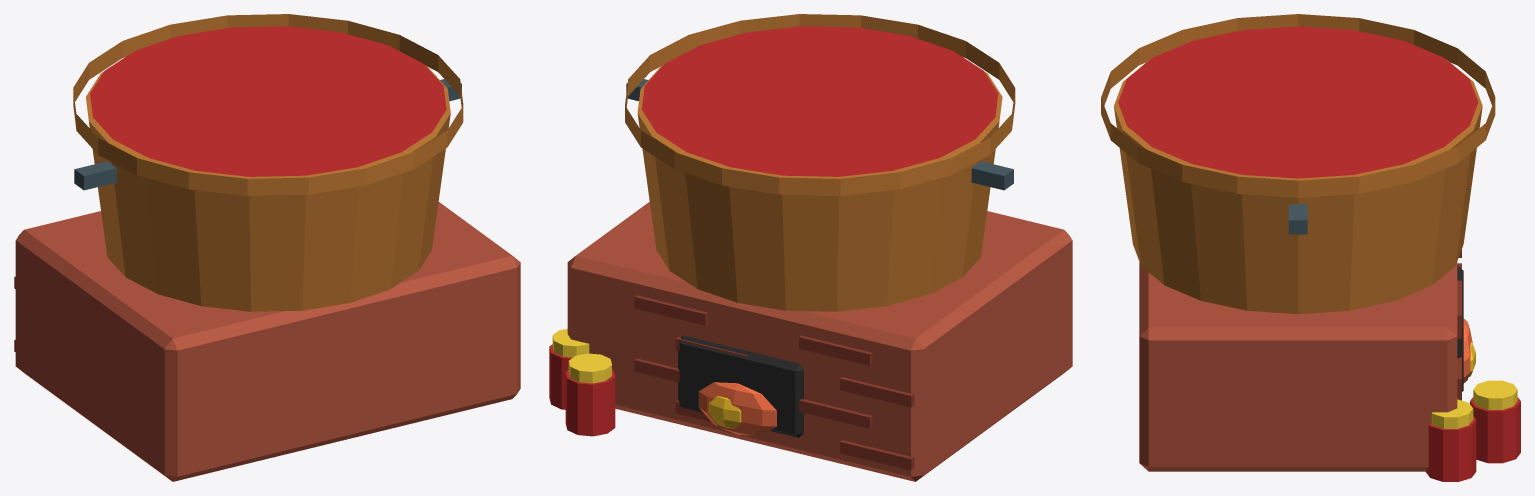
Rendered from Makine_Salca_M2.fbx.
The picture shows the model from 3 angles, left to right: view 1: azimuth 30°, elevation 25°; view 2: azimuth 150°, elevation 25°; view 3: azimuth 270°, elevation 25°; orthographic projection.
Visible parts, largest first — view 1: Makine_Salca; view 2: Makine_Salca; view 3: Makine_Salca.
Boxes of the visible parts, x1,y1,x2,y2 form: Makine_Salca: (14,14,520,481); Makine_Salca: (549,14,1072,481); Makine_Salca: (1101,14,1520,481).
Size of the model in its own units: 139 by 101 by 132.
